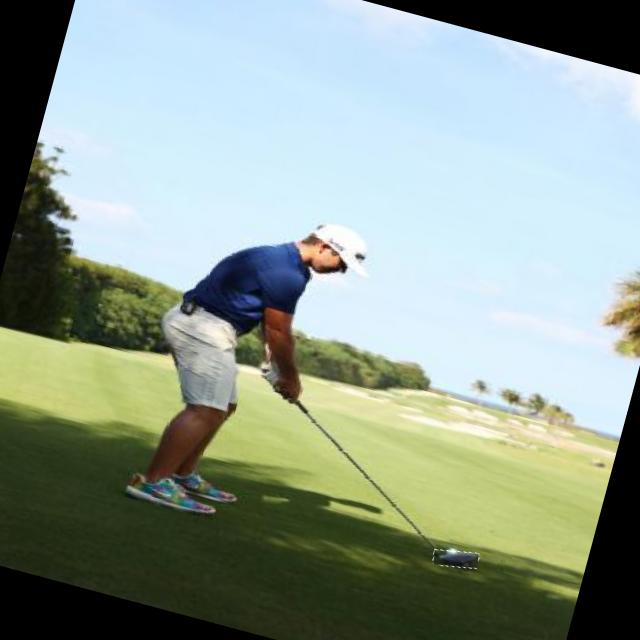club head: (432, 544, 479, 574)
